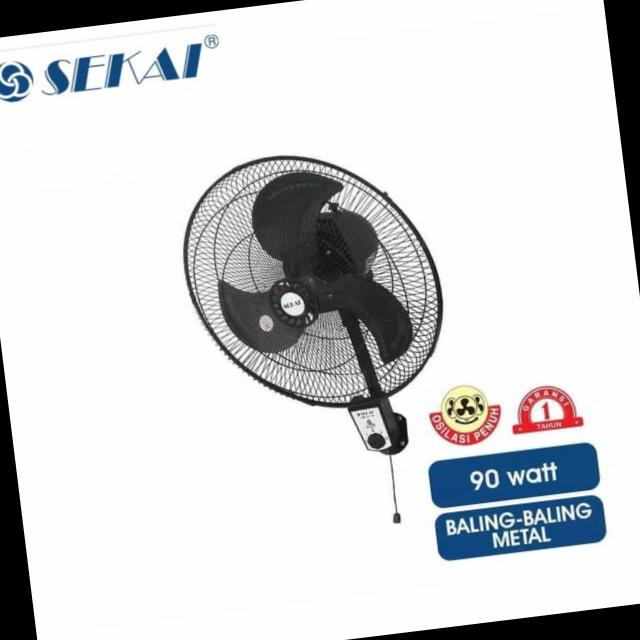fan: (144, 134, 467, 525)
